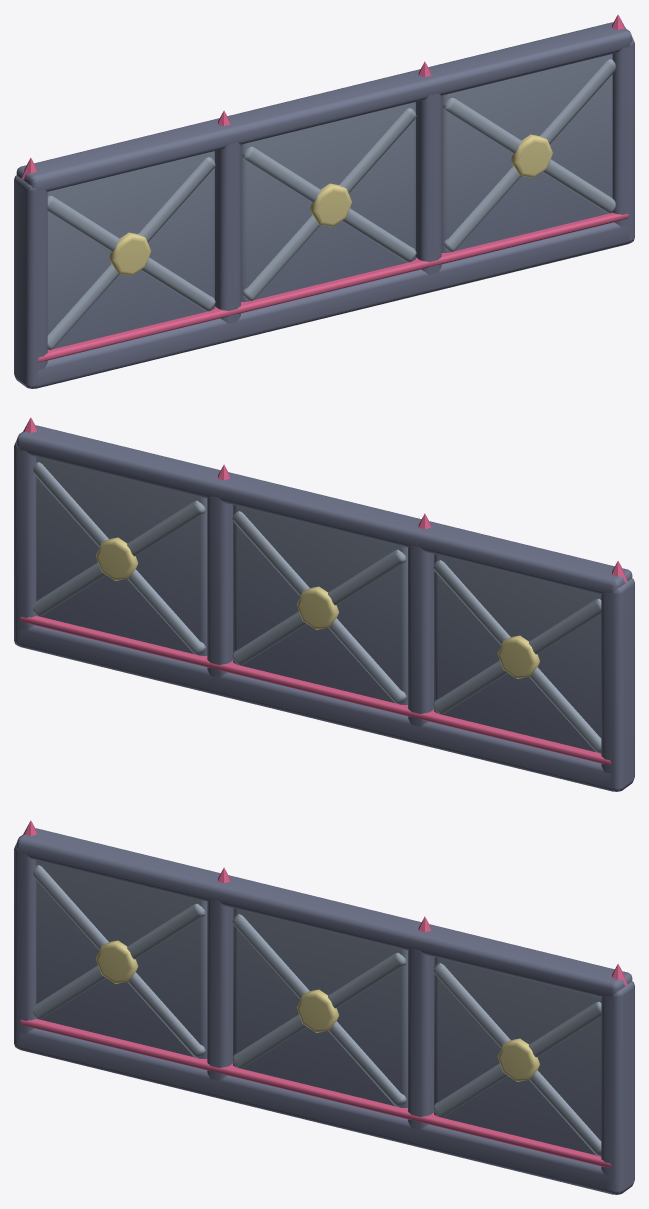
The model's file is wall4.glb.
3 views of the same model, one above another, from view 1: azimuth 30°, elevation 25°; view 2: azimuth 150°, elevation 25°; view 3: azimuth 330°, elevation 25° (orthographic).
Visible parts, largest first — view 1: Body; view 2: Body; view 3: Body.
Boxes of the visible parts, <box> form: Body: <box>14,14,634,388</box>; Body: <box>14,417,634,791</box>; Body: <box>14,820,634,1194</box>.
Bounding box in the file's own units: 39.4 × 14 × 2.1.
